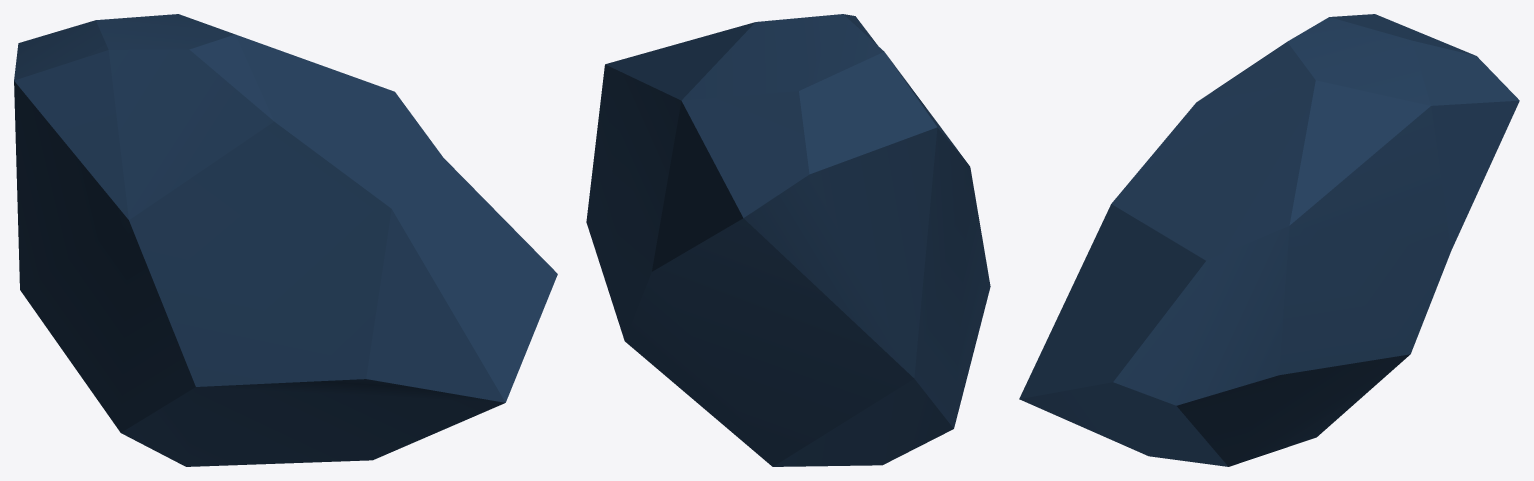
The model's file is 39091_stone_03.fbx.
The picture shows the model from 3 angles, left to right: view 1: azimuth 30°, elevation 25°; view 2: azimuth 150°, elevation 25°; view 3: azimuth 270°, elevation 25°; orthographic projection. The views are drawn at different scales.
Visible parts, largest first — view 1: 39091_stone_03; view 2: 39091_stone_03; view 3: 39091_stone_03.
Part boxes in pixels (left/top/right/bottom): 39091_stone_03: left=14, top=14, right=557, bottom=466; 39091_stone_03: left=586, top=14, right=990, bottom=466; 39091_stone_03: left=1019, top=14, right=1519, bottom=466.
Size of the model in its own units: 3.49 by 3.3 by 3.94.
